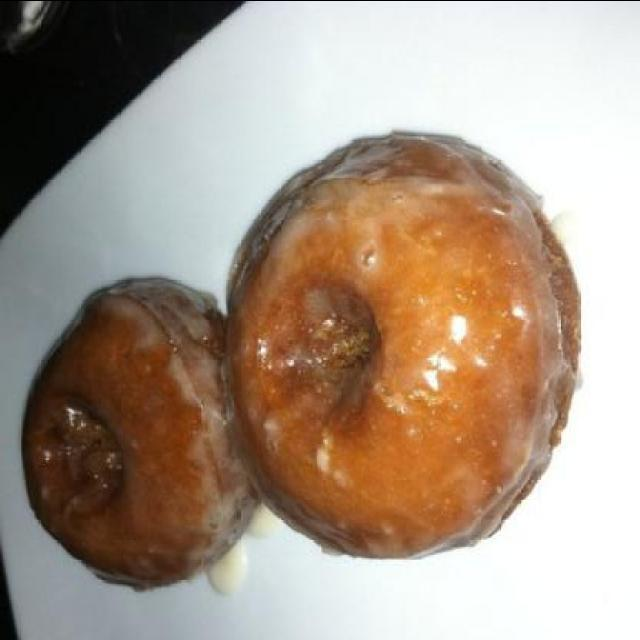Donuts: (12, 97, 586, 588)
